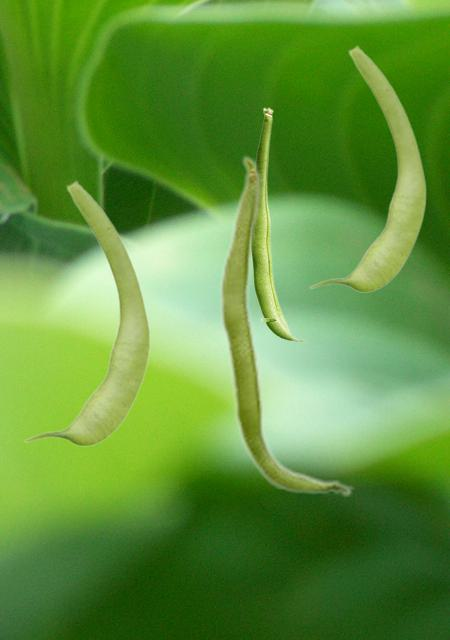french_bean: (217, 154, 353, 497), (23, 179, 150, 445), (308, 44, 426, 291), (253, 107, 306, 341)
